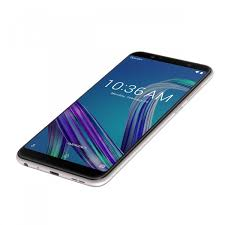asus: (11, 48, 216, 188)
